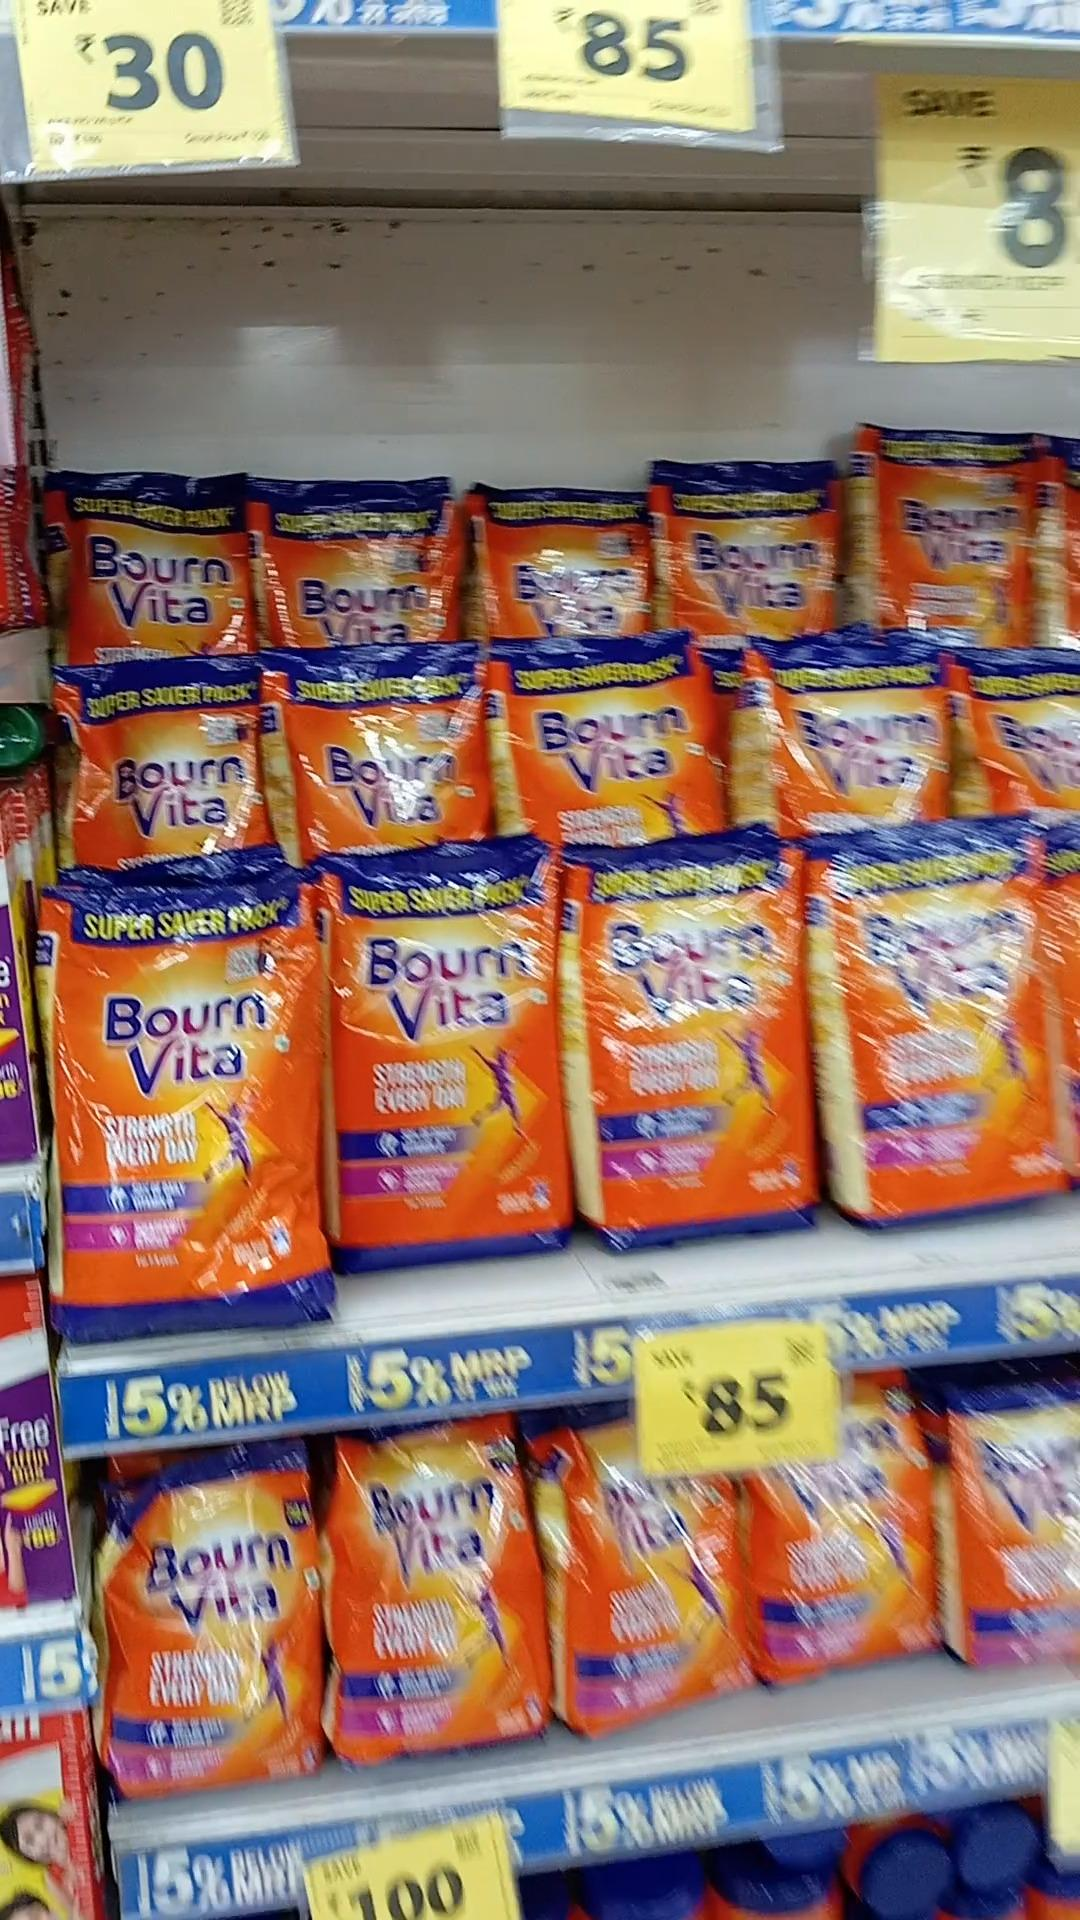BOURN_VITA_1_KG_POUCH: (42, 887, 318, 1321), (343, 860, 564, 1259), (584, 852, 803, 1242), (819, 849, 1050, 1209), (502, 638, 711, 841), (69, 665, 253, 861), (757, 642, 949, 829), (286, 663, 481, 848), (857, 425, 1029, 632), (55, 467, 241, 647), (663, 455, 837, 624), (260, 481, 444, 640)
BOURN_VITA_750_G_POUCH: (330, 1432, 547, 1749), (98, 1466, 314, 1780), (558, 1470, 736, 1725), (756, 1470, 938, 1662)
